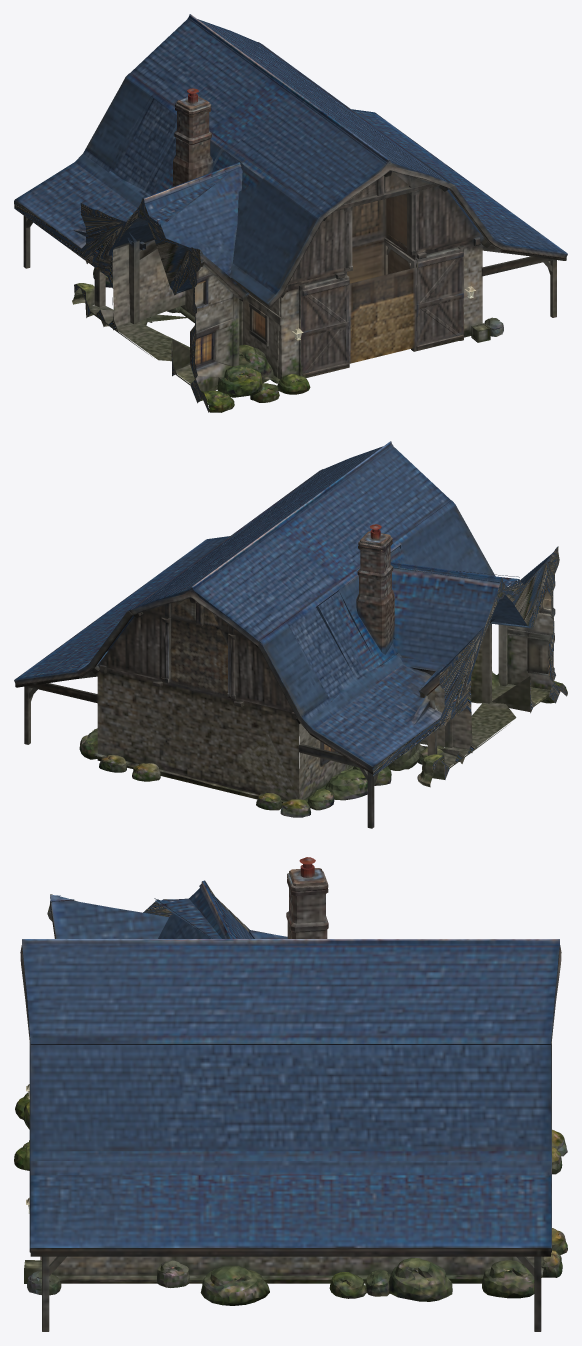
The model's file is bld_barn_stable_tripo_lod1.glb.
3 views of the same model, one above another, from view 1: azimuth 30°, elevation 25°; view 2: azimuth 150°, elevation 25°; view 3: azimuth 270°, elevation 25° (orthographic). The views are drawn at different scales.
Visible parts, largest first — view 1: geometry_0; view 2: geometry_0; view 3: geometry_0.
Boxes of the visible parts, bbox=[...] form: geometry_0: bbox=[14, 14, 567, 412]; geometry_0: bbox=[14, 441, 567, 828]; geometry_0: bbox=[14, 857, 567, 1331].
Size of the model in its own units: 23.8 by 14.54 by 23.48.
Materials: 1 (1 with a texture image).
